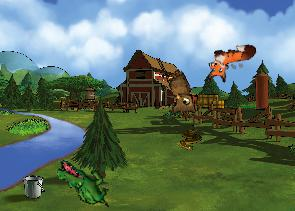crocodile: (50, 158, 117, 209)
fox: (203, 42, 259, 84)
owl: (155, 67, 201, 121)
